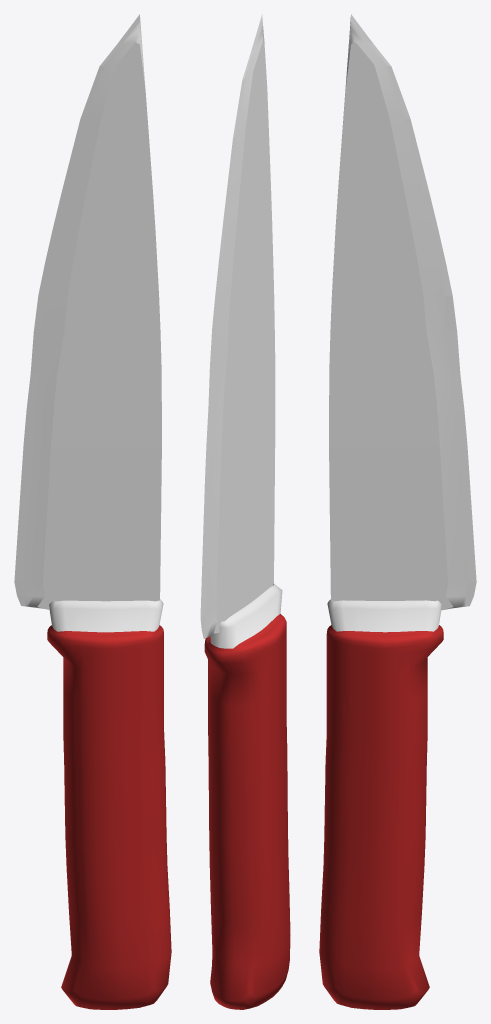
The model's file is kitchen_knife.glb.
The picture shows the model from 3 angles, left to right: view 1: azimuth 90°, elevation 25°; view 2: azimuth 150°, elevation 25°; view 3: azimuth 270°, elevation 25°; orthographic projection.
Parts seen in each view (by area): view 1: KitchenKnife; view 2: KitchenKnife; view 3: KitchenKnife.
Boxes of the visible parts, <box> form: KitchenKnife: <box>14,14,171,1009</box>; KitchenKnife: <box>200,14,290,1009</box>; KitchenKnife: <box>319,14,476,1009</box>.
Size of the model in its own units: 0.0216 by 0.3298 by 0.0476.
